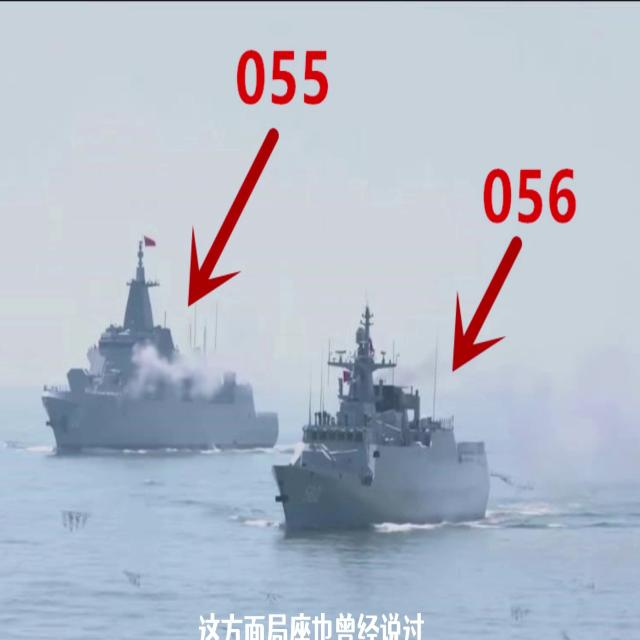navalvessels: (36, 228, 277, 445), (272, 304, 490, 526)
